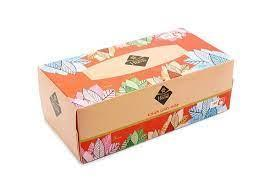box: (37, 27, 235, 166)
